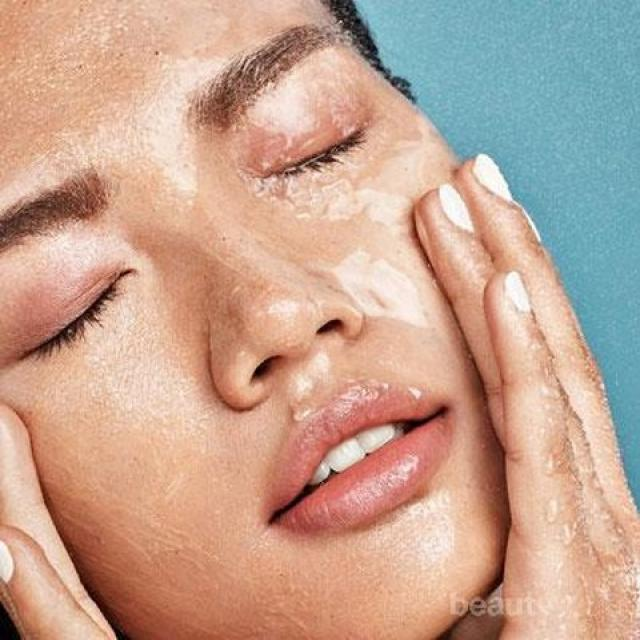oily: (318, 240, 445, 316), (121, 104, 212, 200), (238, 302, 326, 392), (378, 101, 462, 174)
